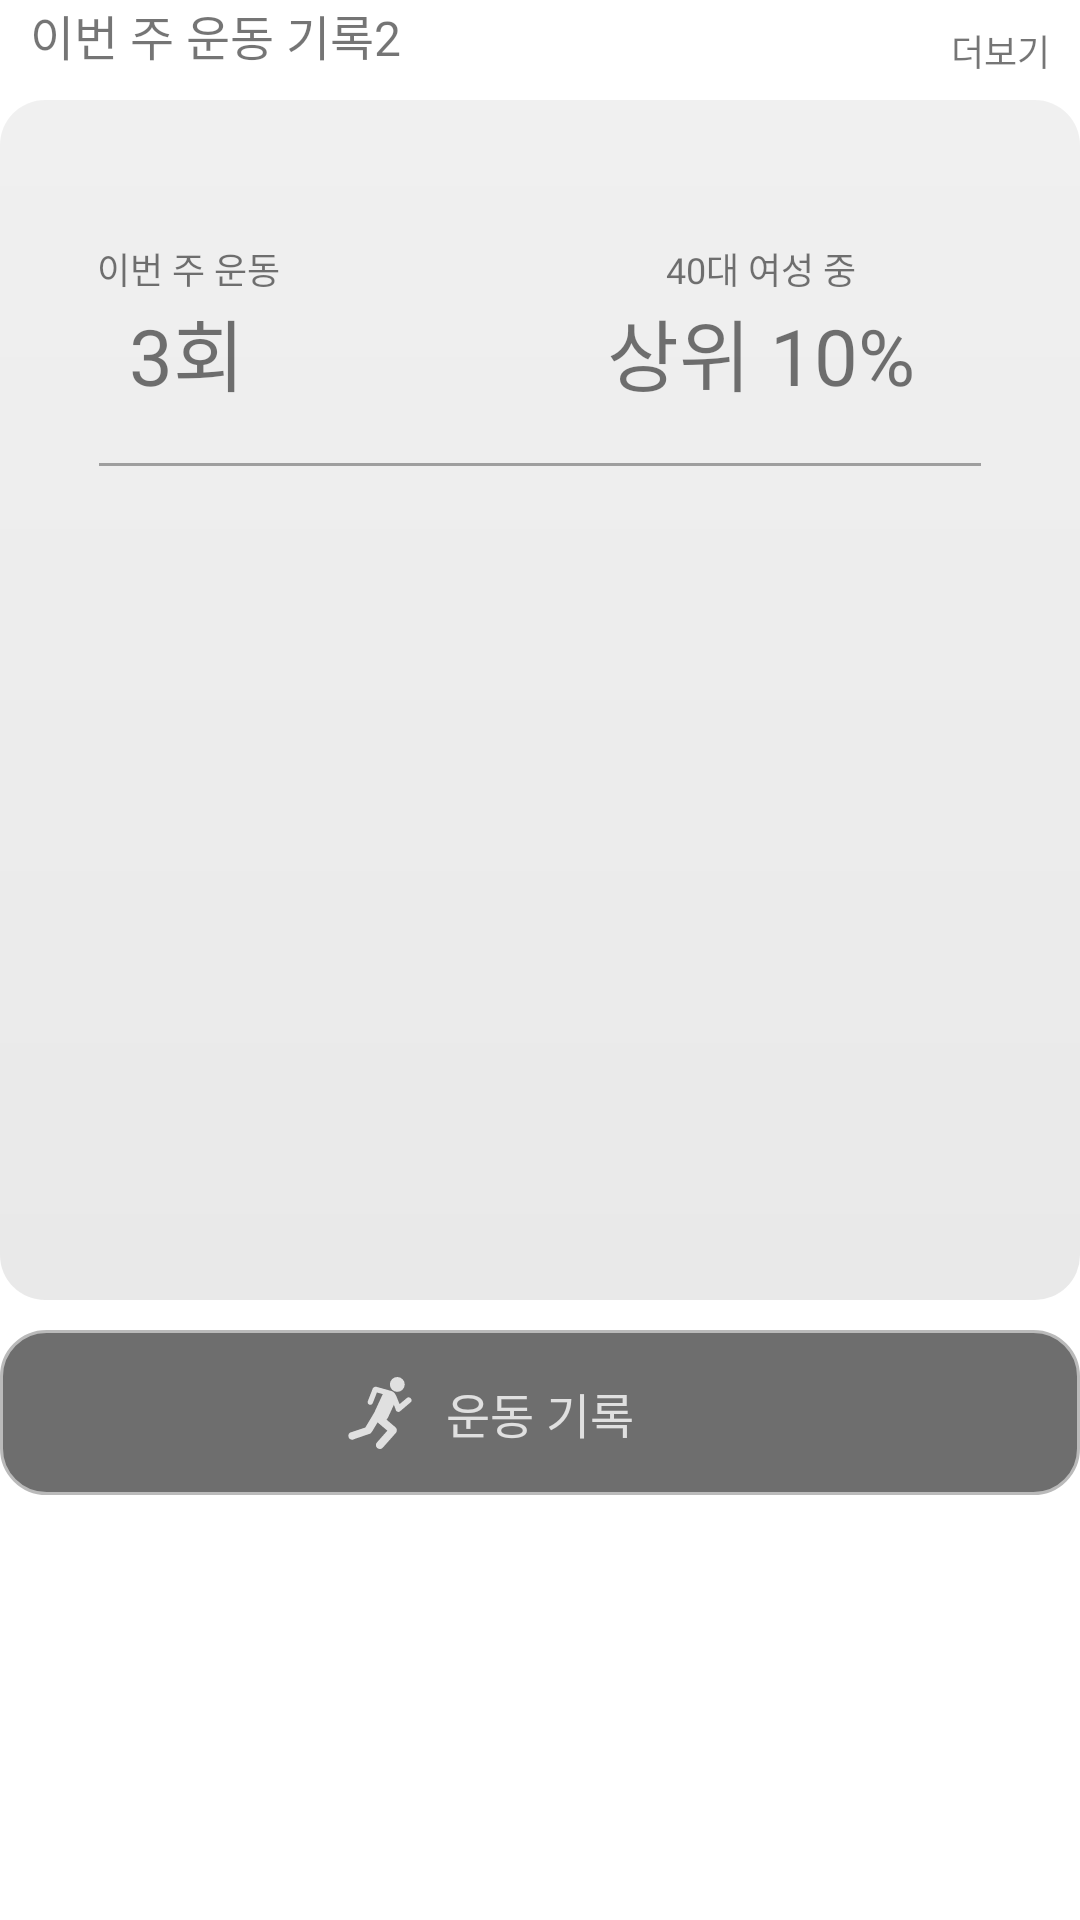

Icons on this 1080x1920 Android screen, each with its box as Rect(x1, y1, x2, y2):
running stick figure: Rect(348, 1377, 412, 1449)
